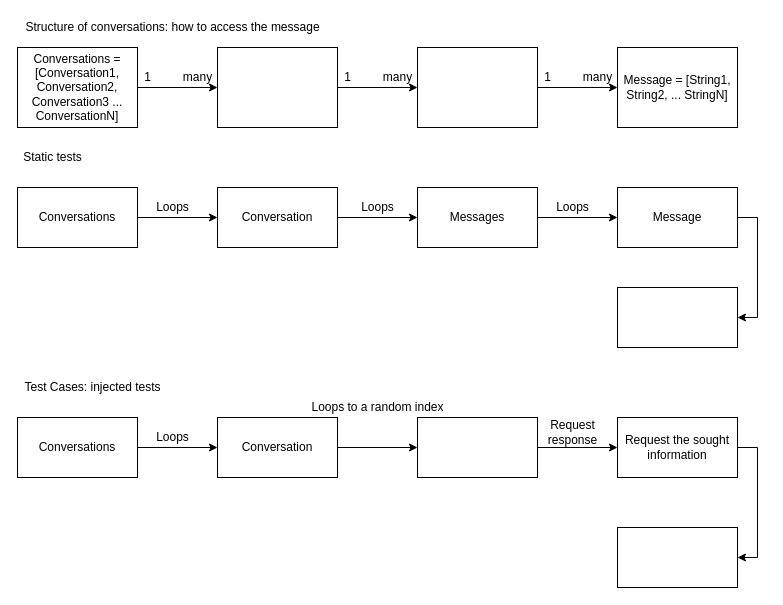
This 783x605 diagram has some shape labels left out. Here are the shapes that lost their labels. From the top down, the centre of each, then its label:
At (x=277, y=87): "Conversation = [Messages1, Messages2, ... MessagesN]".
At (x=477, y=87): "Messages = [Message1, Message2, ... MessageN]".
At (x=677, y=317): "analyse(message) and then return result".
At (x=477, y=447): "run() to inject a message".
At (x=677, y=557): "analyse test case and return result".
